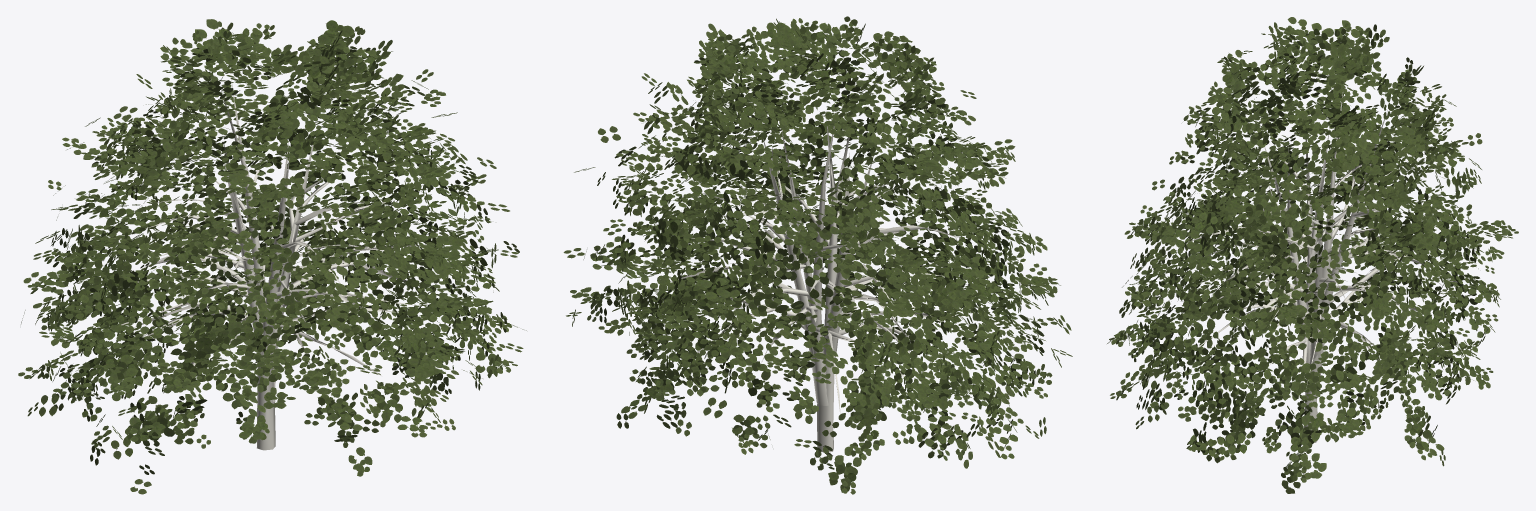
3 renders of one model, left to right at view 1: azimuth 30°, elevation 25°; view 2: azimuth 150°, elevation 25°; view 3: azimuth 270°, elevation 25°, orthographic. The views are drawn at different scales.
Visible parts, largest first — view 1: NT_MH_0000; view 2: NT_MH_0000; view 3: NT_MH_0000.
Part boxes in pixels (x1,y1,x2,y2): NT_MH_0000: (18,19,526,494); NT_MH_0000: (563,16,1072,494); NT_MH_0000: (1107,17,1518,493).
Size of the model in its own units: 28.46 by 24.23 by 23.11.
Materials: 2 (1 with a texture image).
